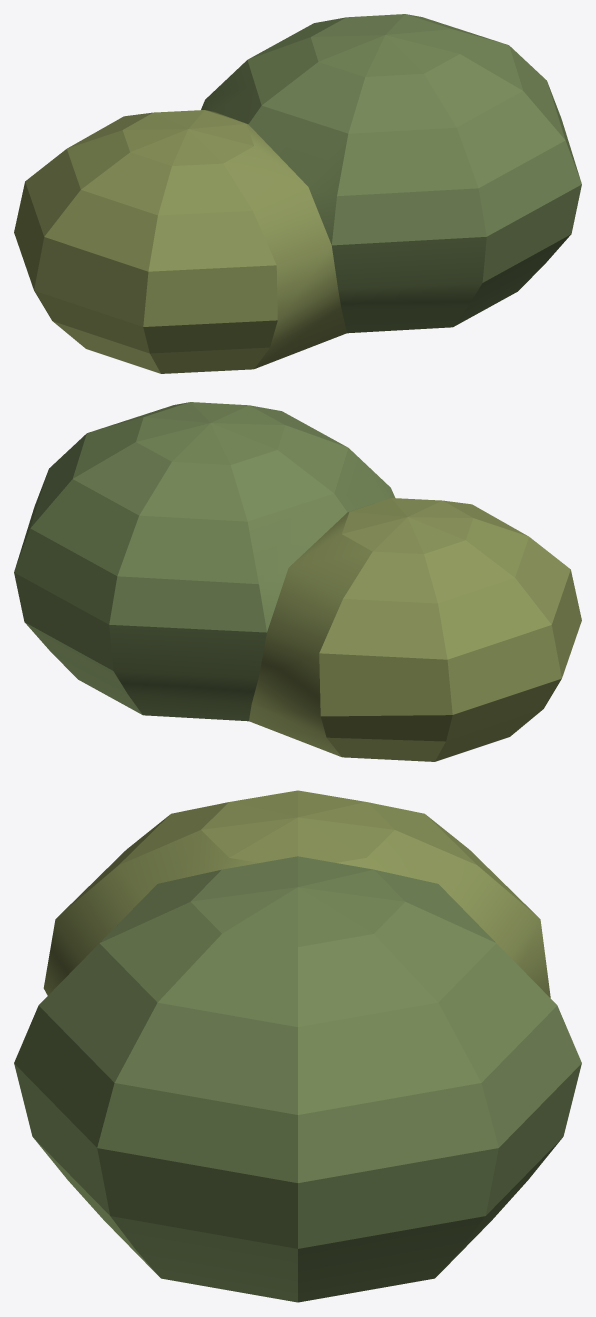
Rendered from shrub2.fbx.
3 views of the same model, one above another, from view 1: azimuth 30°, elevation 25°; view 2: azimuth 150°, elevation 25°; view 3: azimuth 270°, elevation 25° (orthographic). The views are drawn at different scales.
Parts seen in each view (by area): view 1: shrub2; view 2: shrub2; view 3: shrub2.
Part boxes in pixels (x1,y1,x2,y2): shrub2: (14,14,581,373); shrub2: (14,402,581,761); shrub2: (14,790,581,1302).
Bounding box in the file's own units: 22.29 × 9.72 × 14.94.
